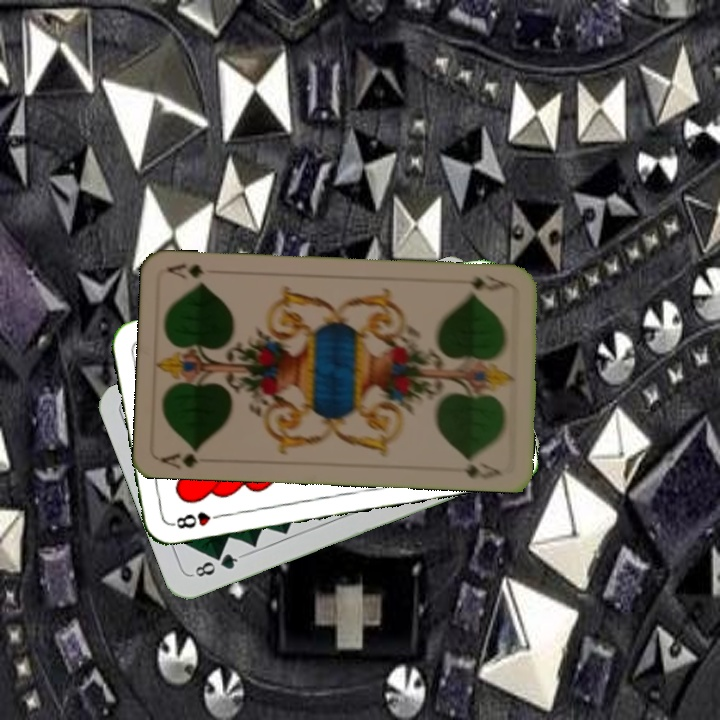G8: (188, 549, 245, 580)
GA: (455, 270, 514, 294), (157, 444, 202, 470)
H8: (168, 508, 227, 531)
